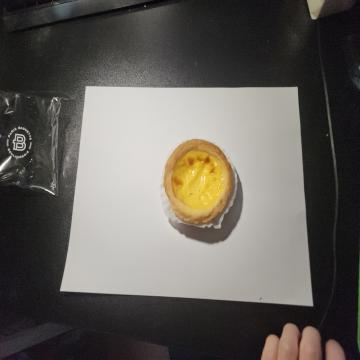EggTart: (163, 139, 233, 226)
